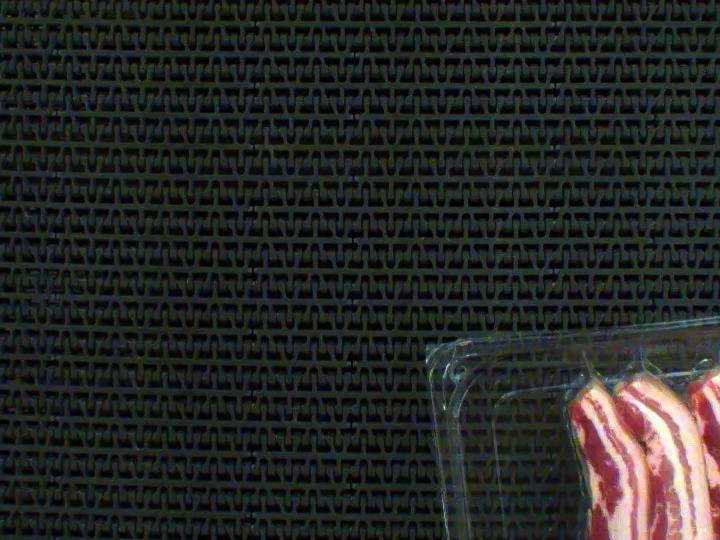unsealed: (545, 356, 720, 540)
